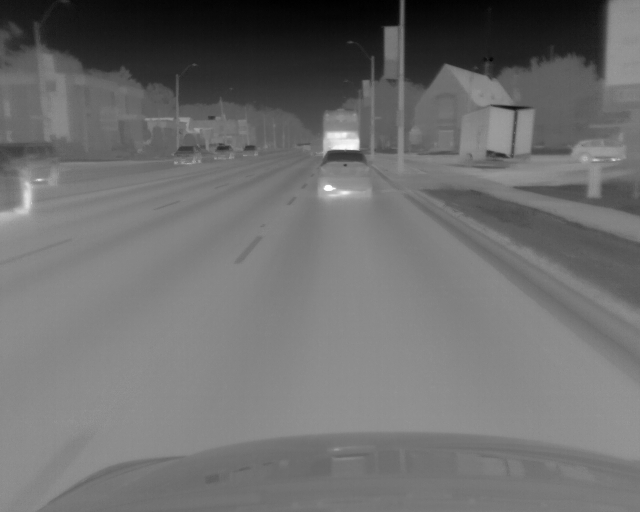car: (1, 140, 61, 188), (316, 149, 374, 197), (1, 154, 30, 213), (322, 108, 360, 152), (570, 137, 627, 165), (172, 145, 203, 166), (213, 145, 233, 160), (240, 144, 256, 157)
